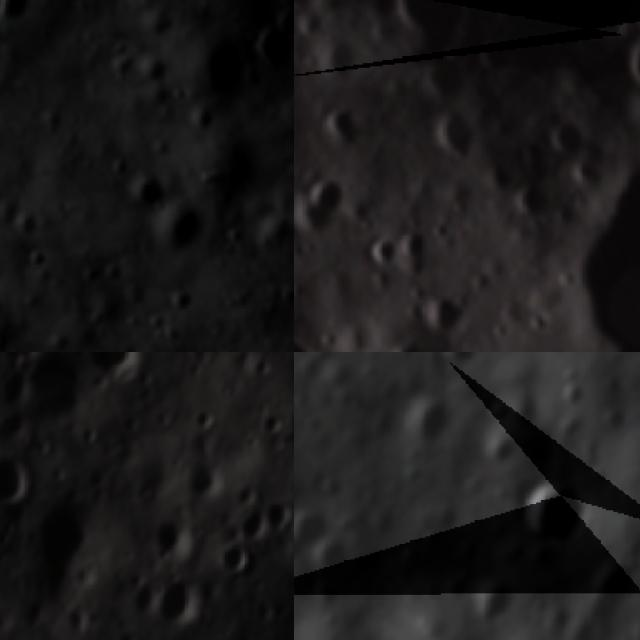crater: (521, 81, 640, 352), (294, 154, 370, 248), (523, 481, 616, 555), (24, 498, 102, 576), (381, 0, 475, 57), (301, 28, 376, 95), (22, 355, 90, 423), (415, 47, 482, 113), (429, 104, 494, 172), (496, 171, 564, 235), (410, 284, 478, 347), (597, 13, 640, 112), (395, 395, 459, 456), (147, 193, 205, 254), (315, 98, 373, 158), (539, 107, 597, 167), (370, 313, 451, 352), (562, 147, 618, 201), (240, 20, 294, 74), (354, 232, 408, 284), (389, 220, 442, 272), (155, 579, 206, 630), (472, 574, 522, 625), (357, 12, 406, 61), (0, 448, 36, 514), (294, 501, 331, 565), (121, 165, 168, 213), (85, 352, 144, 384), (151, 516, 196, 556), (605, 8, 640, 57), (184, 462, 222, 501), (122, 580, 159, 620), (216, 544, 254, 578), (260, 501, 294, 536), (186, 404, 220, 437), (139, 308, 173, 339), (169, 286, 200, 315), (255, 412, 282, 441), (282, 390, 294, 449), (249, 358, 274, 385), (239, 514, 264, 541), (231, 486, 258, 511), (1, 352, 44, 363)
